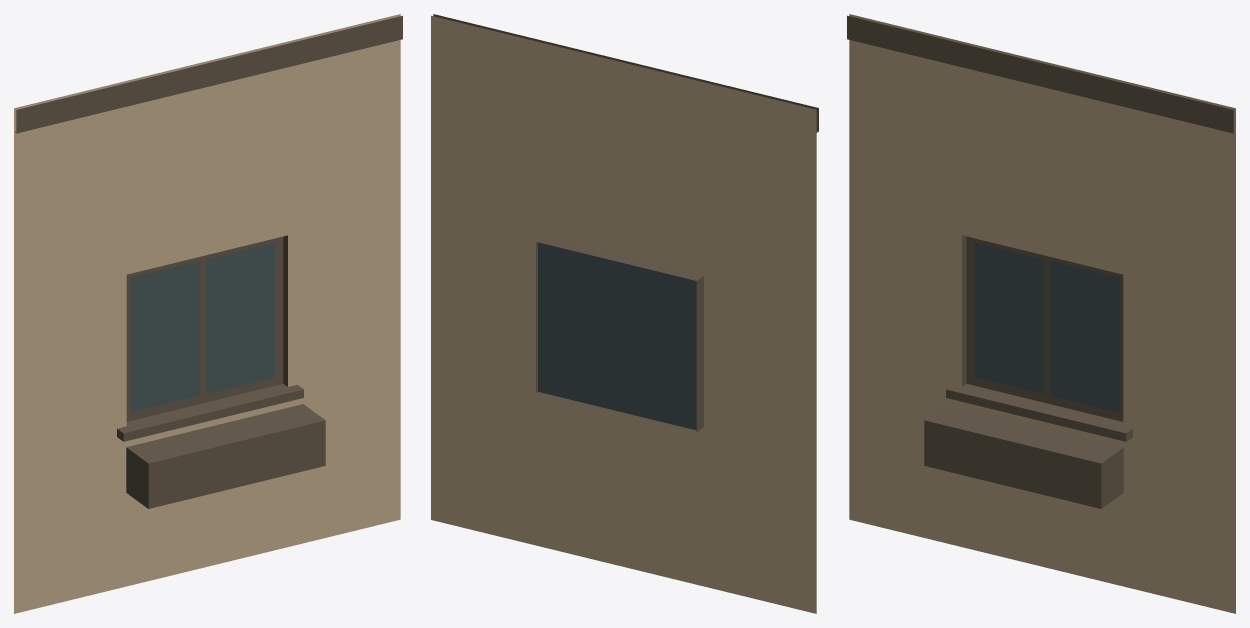
The model's file is top-w3.fbx.
3 renders of one model, left to right at view 1: azimuth 30°, elevation 25°; view 2: azimuth 150°, elevation 25°; view 3: azimuth 330°, elevation 25°, orthographic.
Parts seen in each view (by area): view 1: a2015/0/top-w3; view 2: a2015/0/top-w3; view 3: a2015/0/top-w3.
Part boxes in pixels (left/top/right/bottom): a2015/0/top-w3: left=14, top=14, right=402, bottom=613; a2015/0/top-w3: left=431, top=14, right=818, bottom=613; a2015/0/top-w3: left=847, top=14, right=1235, bottom=613.
Size of the model in its own units: 2.4 by 3 by 0.4.
